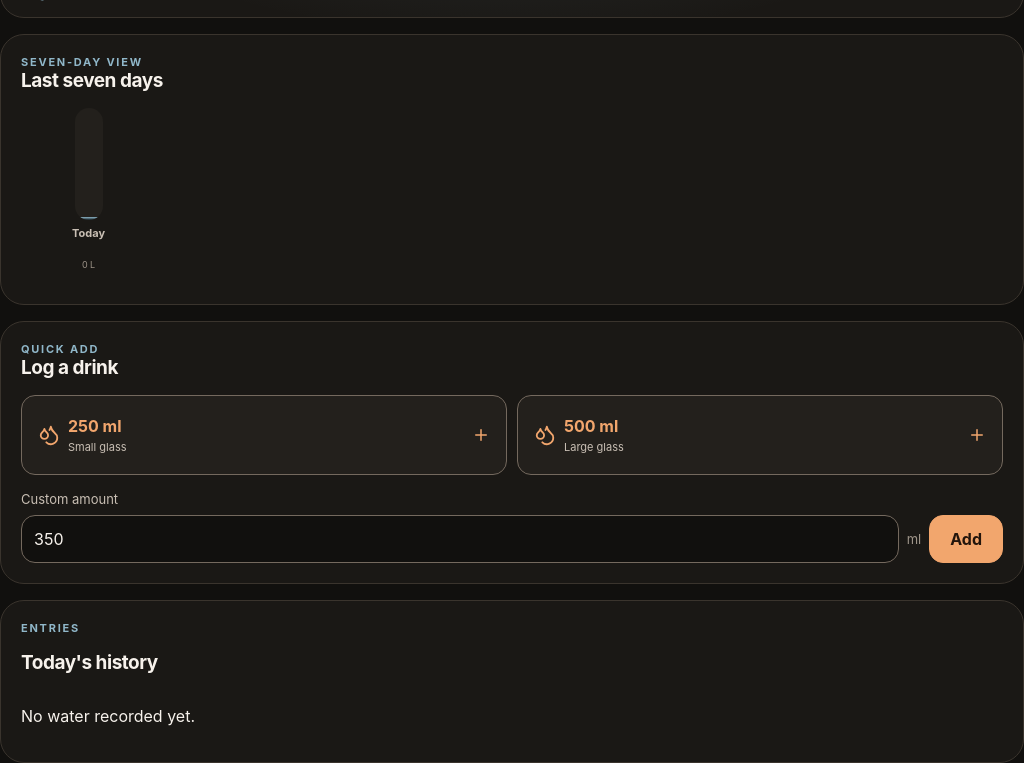
Scenario: HydrationPage › does not claim persistence failed when only the refresh fails
The width and height of the screenshot is (1024, 763).
(page scrolled)
Click the button with aria-label "Add 250 ml": (83, 426) top-left (21, 395), bottom-right (507, 475)
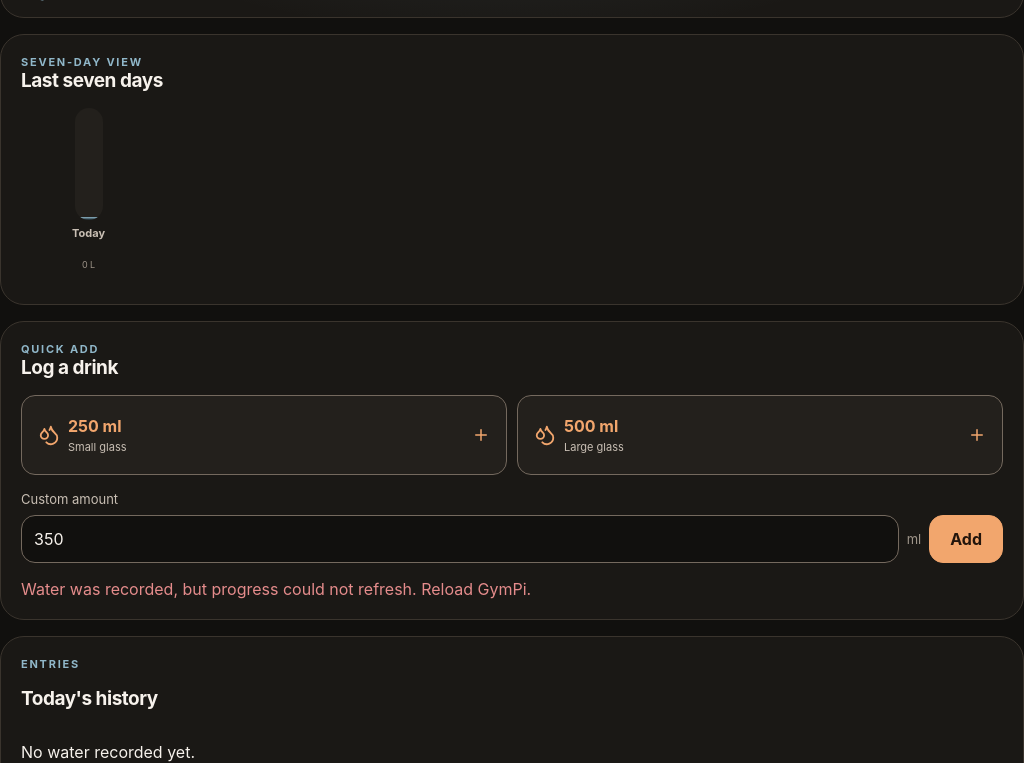
Now the message shows "Water was recorded, but progress could not refresh.", box top-left (21, 579), bottom-right (531, 599)
